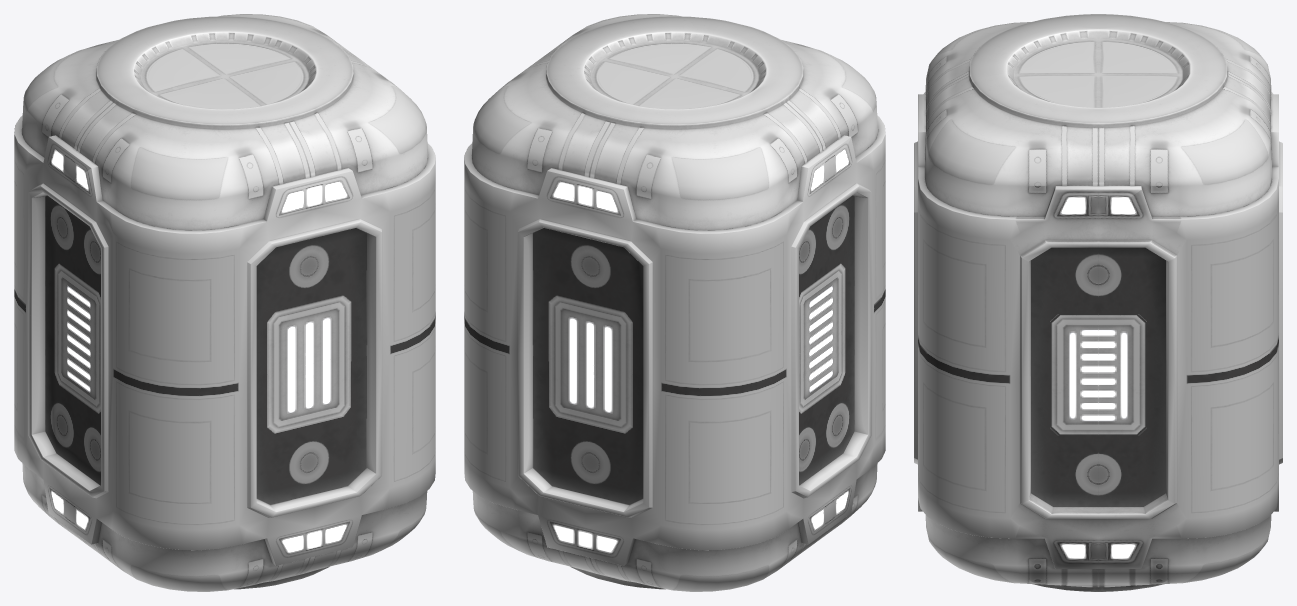
Rendered from Barrel03.FBX.
The picture shows the model from 3 angles, left to right: view 1: azimuth 30°, elevation 25°; view 2: azimuth 150°, elevation 25°; view 3: azimuth 270°, elevation 25°; orthographic projection.
Parts seen in each view (by area): view 1: Barrel03; view 2: Barrel03; view 3: Barrel03.
Part boxes in pixels (left/top/right/bottom): Barrel03: left=14, top=14, right=435, bottom=591; Barrel03: left=464, top=14, right=885, bottom=591; Barrel03: left=914, top=14, right=1282, bottom=591.
Size of what is drawn, in the model's own units: 0.762 by 1.07 by 0.7607.
